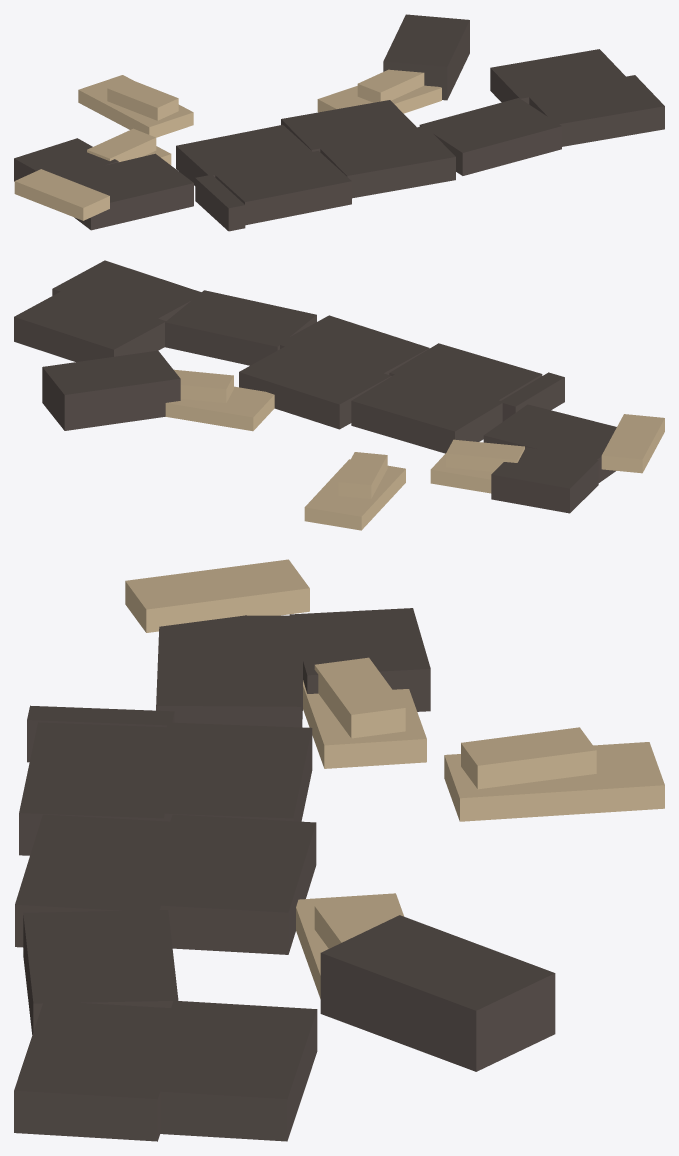
The model's file is SM_PretilEsquinaPaso_v3_Tablon_e3_Brecha_LOD0.fbx.
3 renders of one model, top to bottom at view 1: azimuth 30°, elevation 25°; view 2: azimuth 150°, elevation 25°; view 3: azimuth 270°, elevation 25°, orthographic. The views are drawn at different scales.
Visible parts, largest first — view 1: SM_pretil_azotea_v55_LOD0; view 2: SM_pretil_azotea_v55_LOD0; view 3: SM_pretil_azotea_v55_LOD0.
Boxes of the visible parts, left/top/right/bottom form: SM_pretil_azotea_v55_LOD0: left=14, top=14, right=664, bottom=231; SM_pretil_azotea_v55_LOD0: left=14, top=260, right=664, bottom=530; SM_pretil_azotea_v55_LOD0: left=14, top=559, right=664, bottom=1141.
Bounding box in the file's own units: 4.75 × 0.26 × 2.51.
